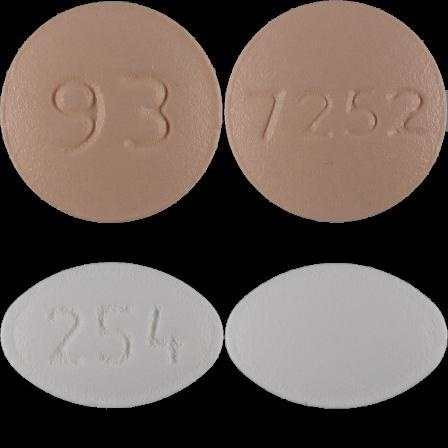69189-0425: (0, 0, 224, 224)
